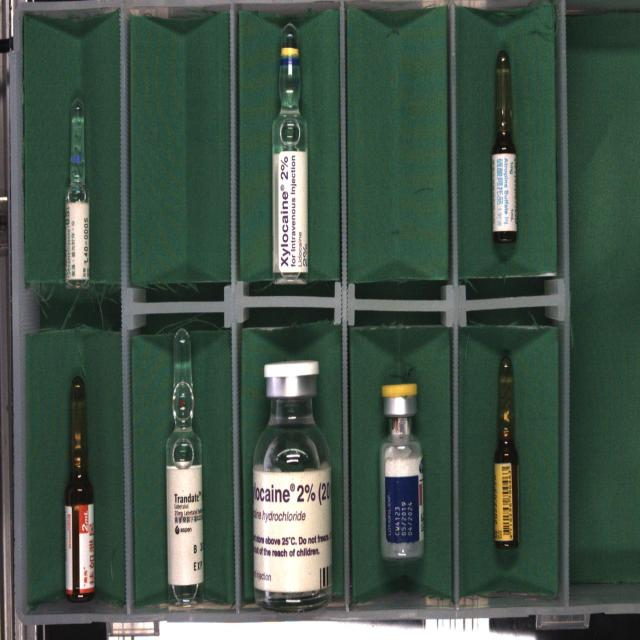Vials: (253, 361, 332, 610), (380, 383, 424, 560)
